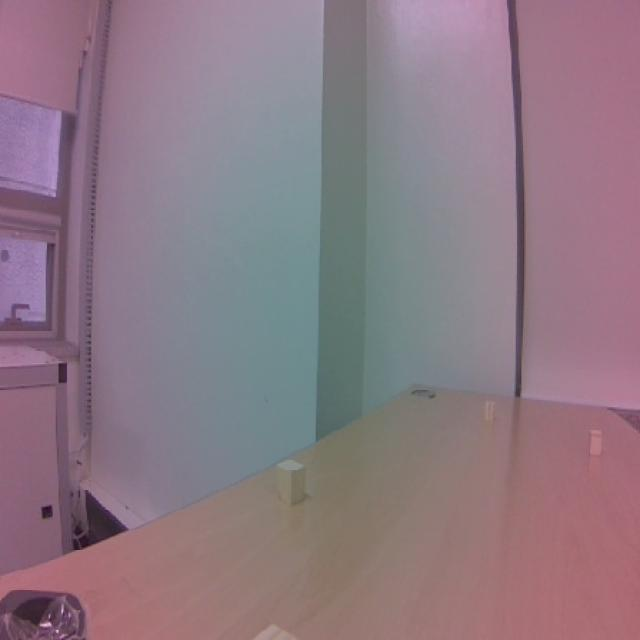obstacle: (267, 454, 318, 514), (580, 424, 609, 463)
